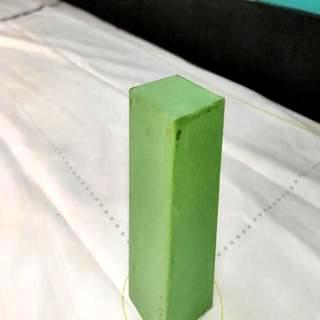greenbox: (128, 73, 225, 320)
